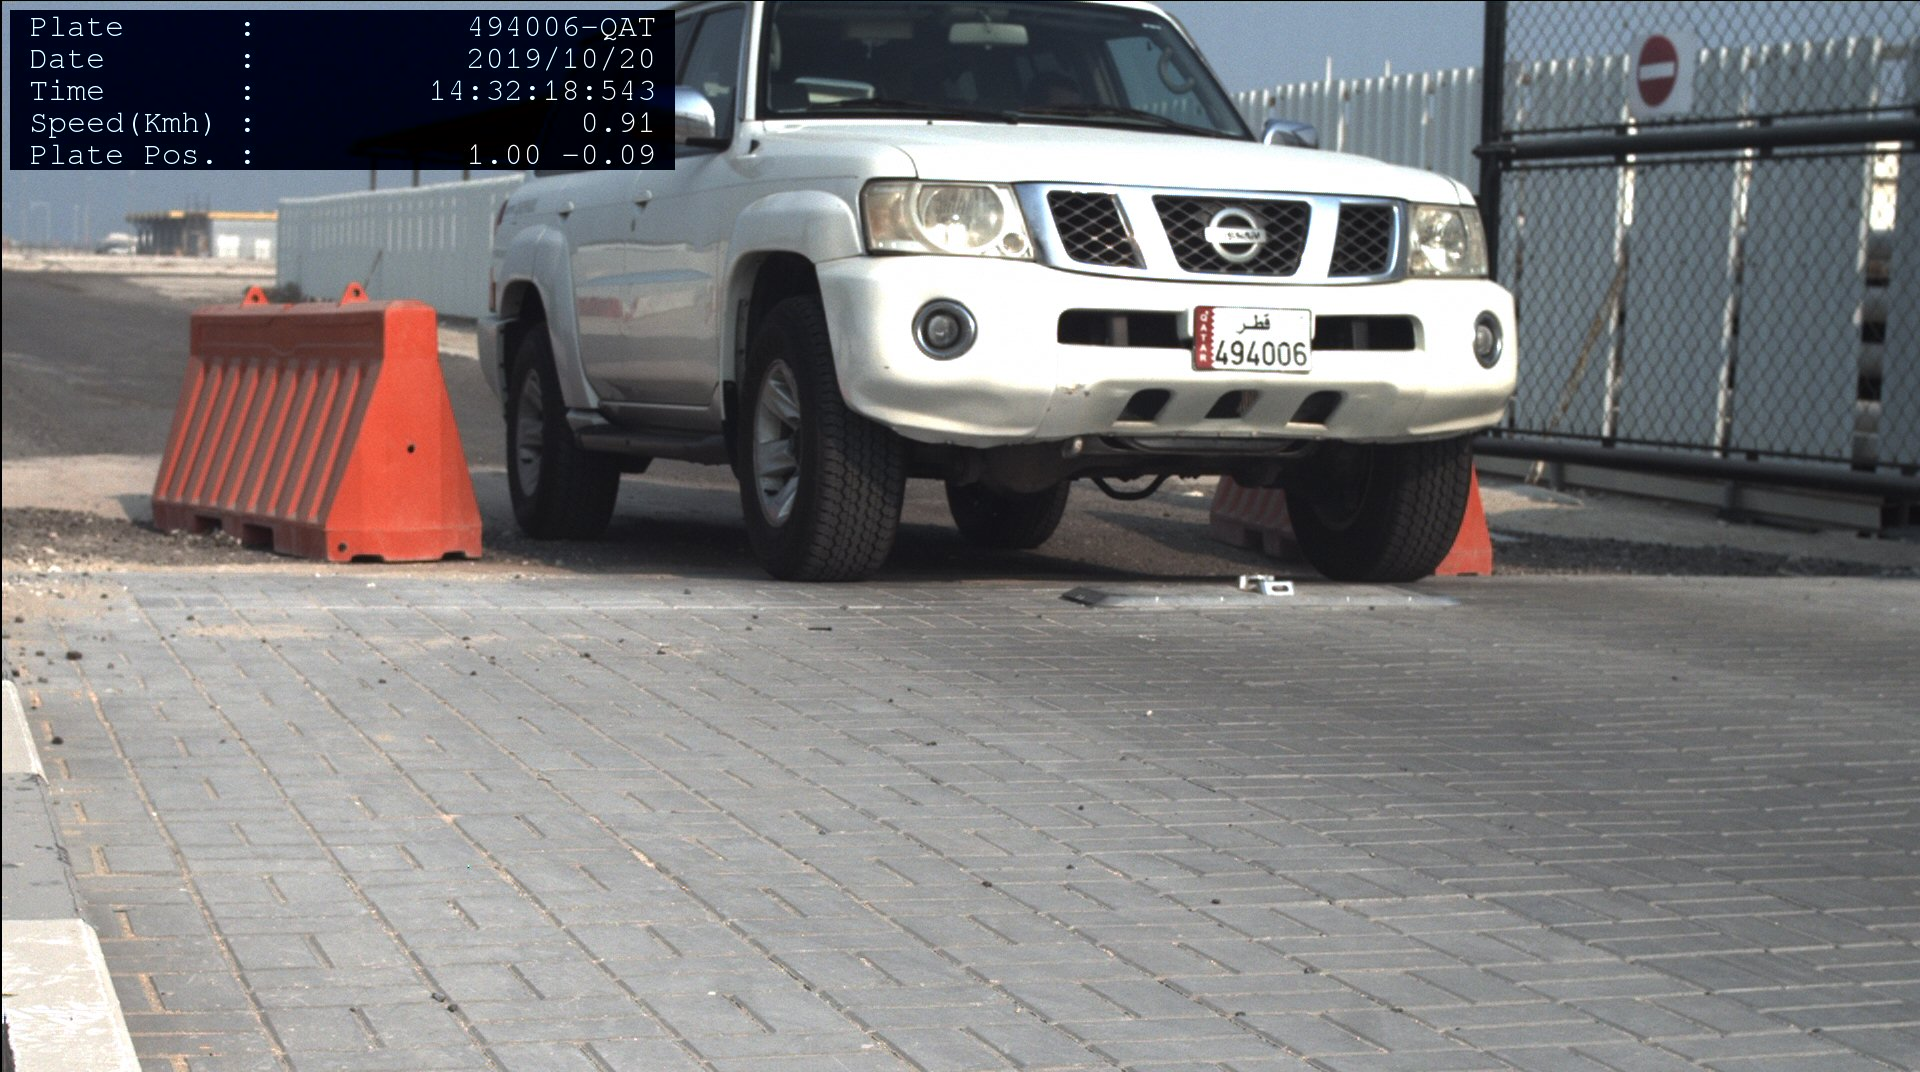License Plate: (1197, 310, 1311, 375)
